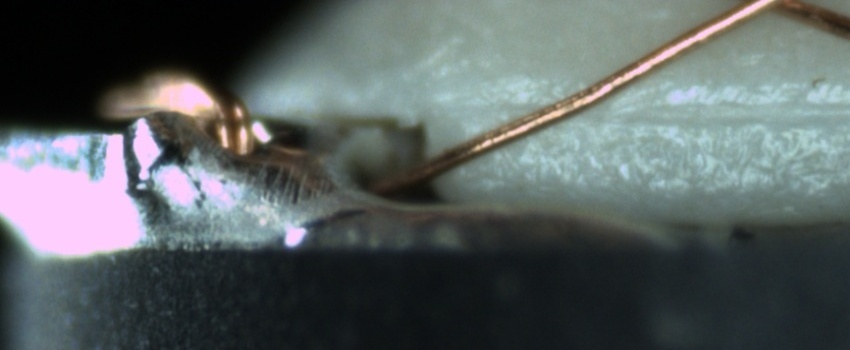CL: (728, 0, 823, 20)
DL: (463, 77, 849, 139)
TE: (93, 59, 260, 173)
